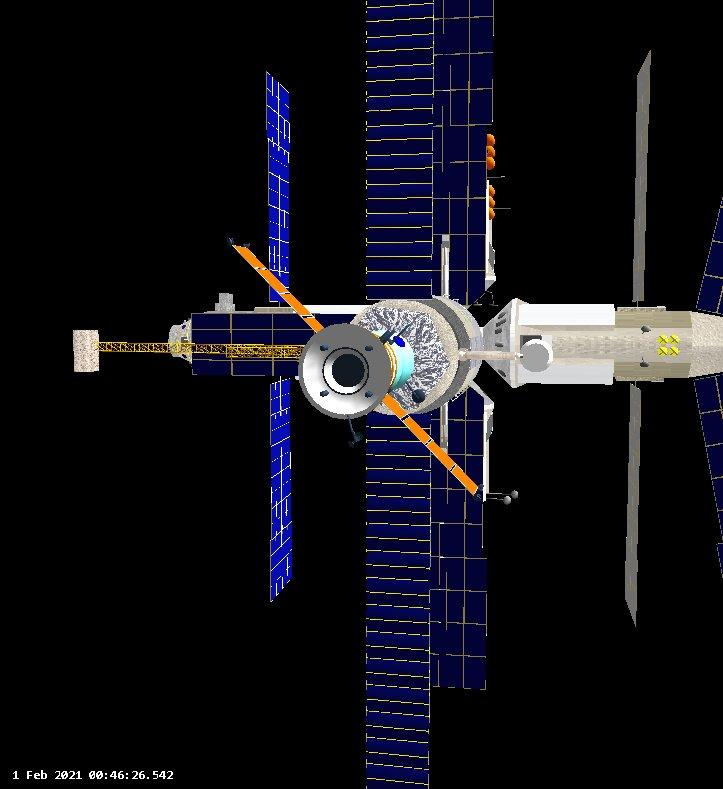antenna: (73, 327, 310, 377), (517, 338, 555, 372), (347, 428, 364, 449), (411, 387, 427, 406), (497, 494, 514, 505), (485, 205, 514, 211), (506, 489, 521, 499), (486, 297, 499, 308), (640, 356, 651, 369), (472, 298, 484, 308), (485, 175, 508, 180), (640, 325, 651, 334)
body: (483, 297, 723, 390), (347, 297, 483, 418)
solar: (363, 409, 432, 789), (363, 0, 436, 301), (429, 0, 497, 309), (429, 383, 491, 692), (189, 311, 361, 381), (382, 394, 480, 497), (230, 241, 326, 334), (265, 68, 295, 302), (693, 373, 723, 582), (268, 375, 293, 605), (631, 49, 653, 304), (624, 382, 643, 628), (696, 196, 723, 317)
thruster: (324, 347, 370, 396)
